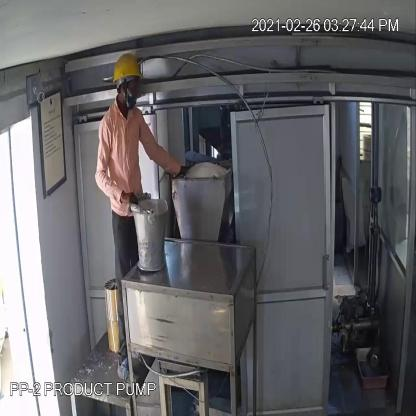helmet: (110, 53, 145, 89)
